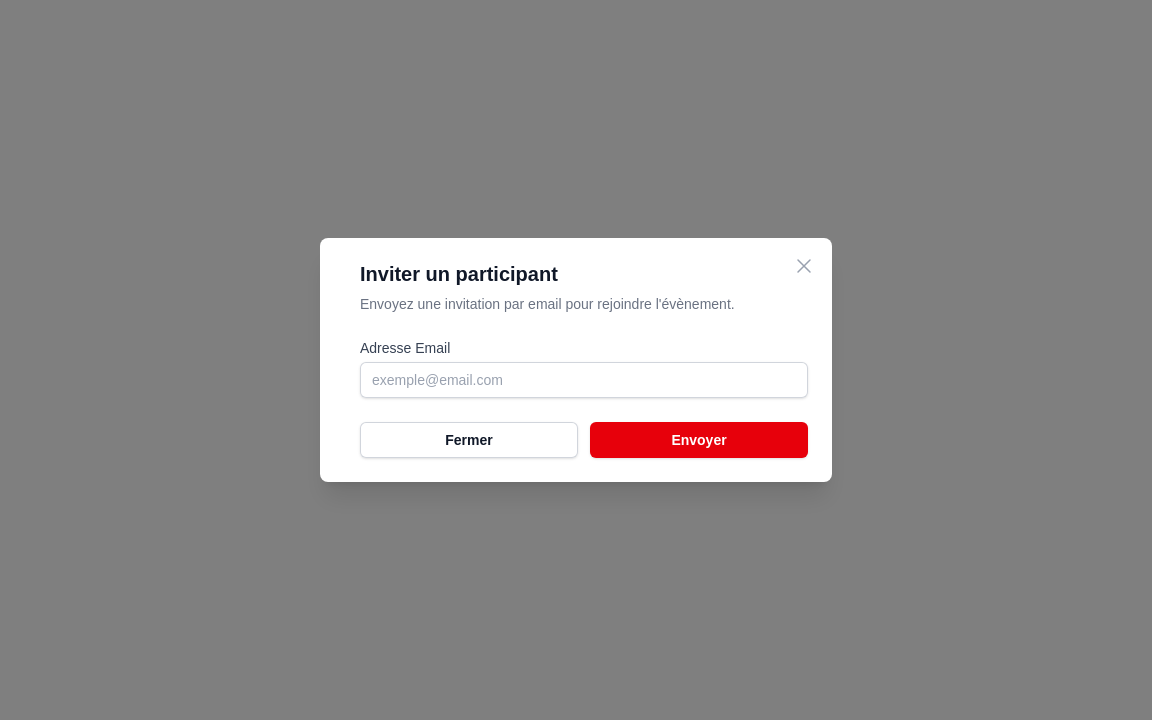
Test: InviteDialog › shows error when no token is available
The width and height of the screenshot is (1152, 720).
Type "test@example.com" into the field labelled "Adresse Email" at (584,380), box [360,362,808,398]
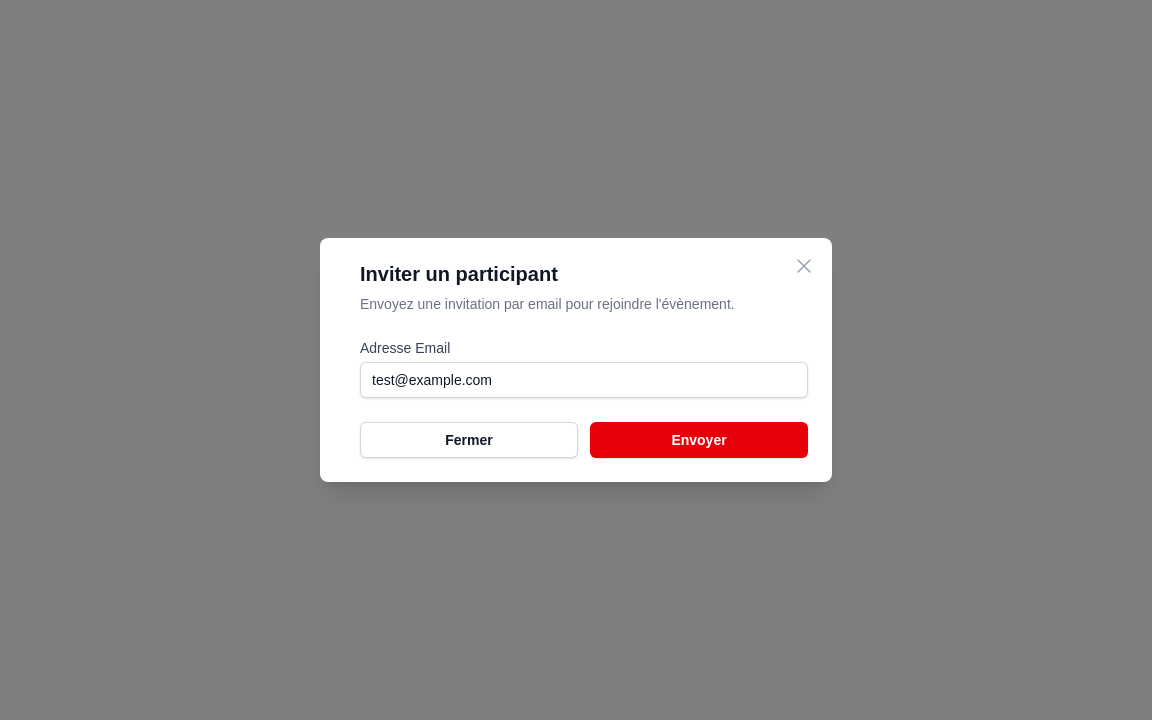
Click the button "Envoyer" at (699,440), box [590,422,808,458]
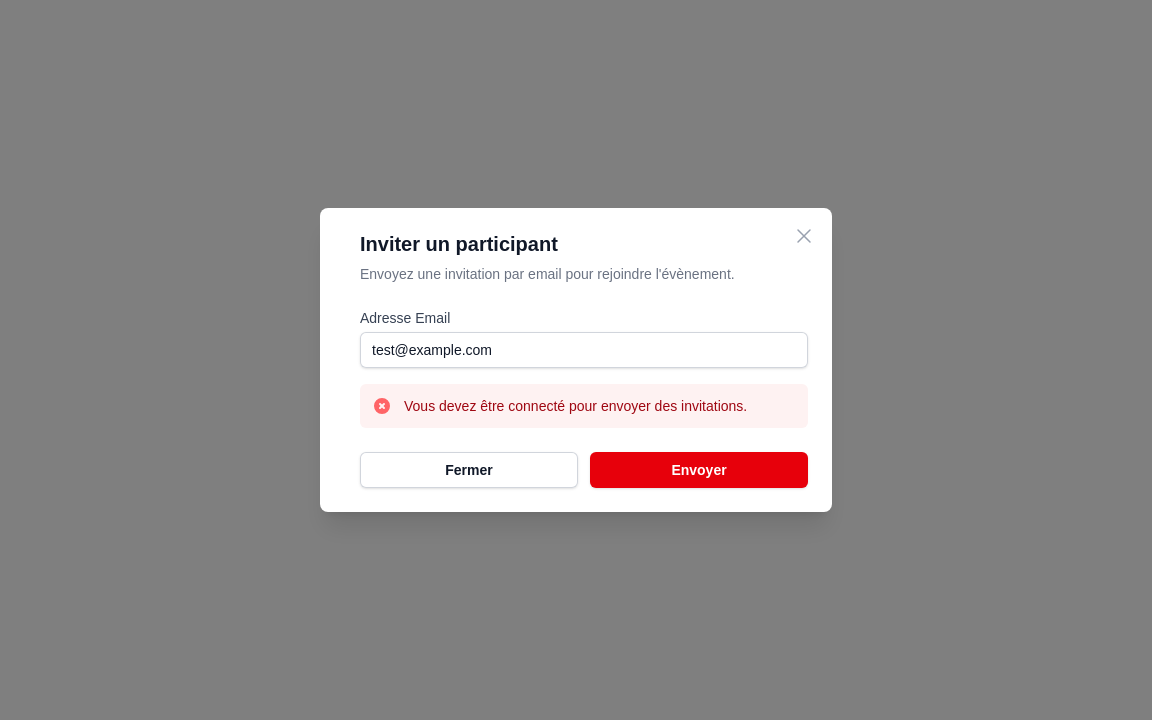
Check: the text "Vous devez être connecté pour envoyer des invitations." is shown, box [404,396,747,416]
